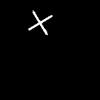single_crochet: (29, 11, 51, 34)
